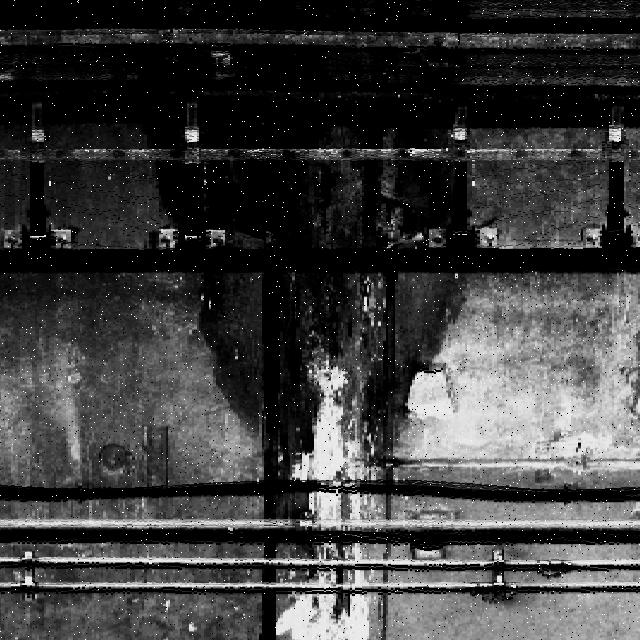leakage: (135, 1, 476, 640)
